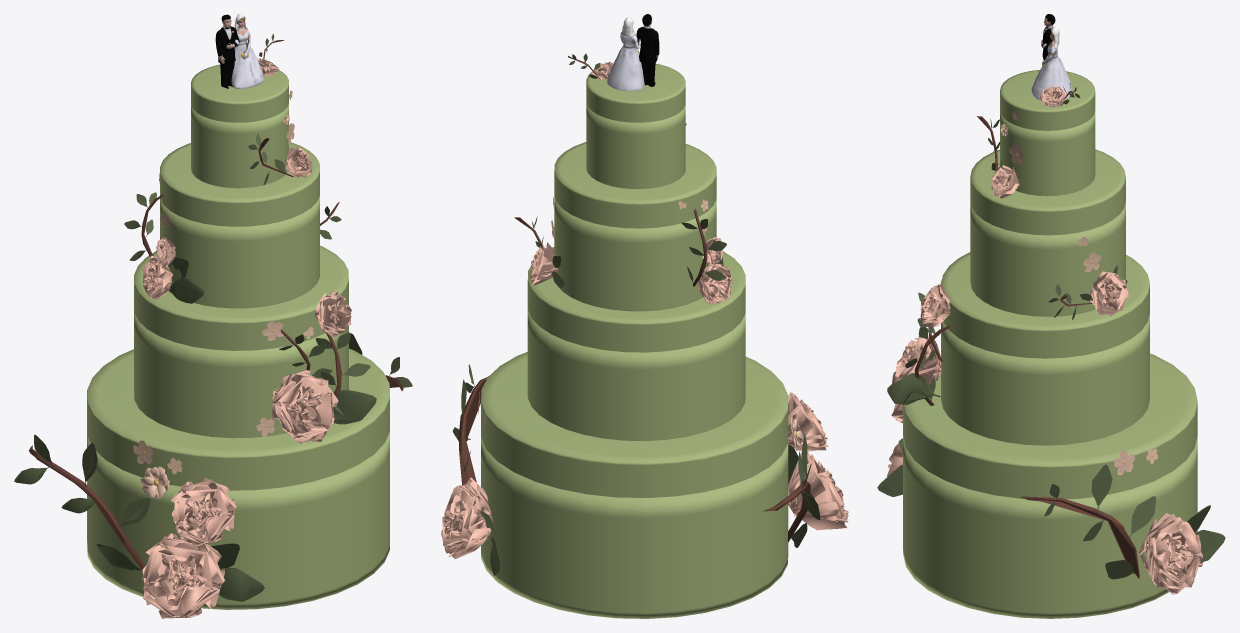
The model's file is 4-tier-pistage-roses-bridegroom.glb.
3 views of the same model, side by side, from view 1: azimuth 30°, elevation 25°; view 2: azimuth 150°, elevation 25°; view 3: azimuth 270°, elevation 25° (orthographic).
Parts seen in each view (by area): view 1: 3.001, 3, 2, 1, grid.013, Plane.024, grid.016, grid.012, 13501_Cake_Topper_Bride_Groom_v1_L1.001, grid.015, Plane.009, Plane.022 (+7 smaller); view 2: 3.001, 3, 2, 1, grid.020, 13501_Cake_Topper_Bride_Groom_v1_L1.001, grid.013, Plane.008, Plane.024, grid.012, grid.017, Plane.023 (+1 smaller); view 3: 3.001, 3, 2, 1, grid.020, Plane.008, 13501_Cake_Topper_Bride_Groom_v1_L1.001, grid.016, grid.019, Plane.009, grid.015, grid.021 (+3 smaller).
Boxes of the visible parts, x1,y1,x2,y2 form: 3.001: (87,348,389,609); 3: (134,245,348,438); 2: (160,142,319,308); 1: (191,64,288,188); grid.013: (142,533,225,618); Plane.024: (14,434,150,570); grid.016: (272,370,338,444); grid.012: (171,478,236,547); 13501_Cake_Topper_Bride_Groom_v1_L1.001: (215,14,264,88); grid.015: (315,291,351,337); Plane.009: (333,390,376,424); Plane.022: (218,568,264,601); 3.001: (481,352,788,618); 3: (527,247,745,441); 2: (554,142,716,311); 1: (586,63,685,189); grid.020: (441,477,493,558); 13501_Cake_Topper_Bride_Groom_v1_L1.001: (607,14,659,91); grid.013: (788,452,848,530); Plane.008: (452,364,488,485); Plane.024: (762,433,820,547); grid.012: (788,392,828,451); grid.017: (698,263,732,305); Plane.023: (681,209,726,286); 3.001: (903,353,1197,618); 3: (941,252,1149,445); 2: (970,149,1125,316); 1: (1000,70,1095,196); grid.020: (1138,513,1202,594); Plane.008: (1021,464,1156,579); 13501_Cake_Topper_Bride_Groom_v1_L1.001: (1031,14,1072,99); grid.016: (892,331,941,384); grid.019: (1089,271,1128,316); Plane.009: (887,373,940,404); grid.015: (920,284,950,326); grid.021: (990,165,1019,198).
Size of the model in its own units: 6.25 by 8.54 by 5.05.
Materials: 7 (1 with a texture image).
